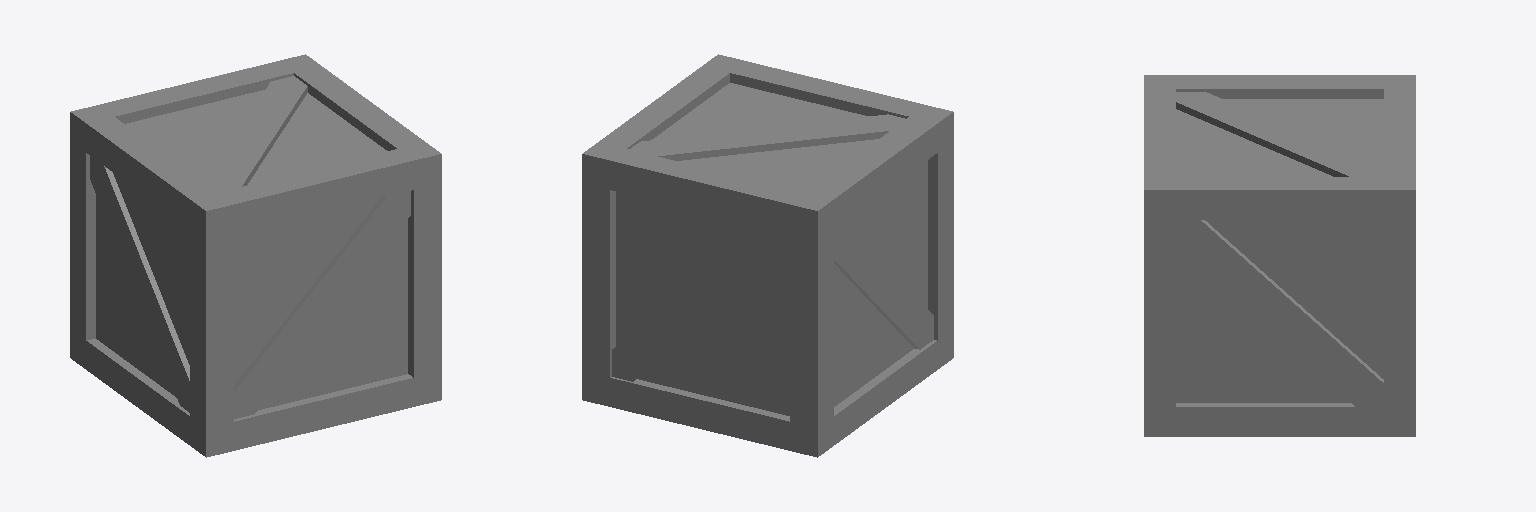
The model's file is woodcrate.obj.
The picture shows the model from 3 angles: view 1: azimuth 30°, elevation 25°; view 2: azimuth 150°, elevation 25°; view 3: azimuth 270°, elevation 25°; orthographic projection.
Parts seen in each view (by area): view 1: default001; view 2: default001; view 3: default001.
Boxes of the visible parts, box(x1,y1,x2,y2) form: default001: box(70, 54, 441, 457); default001: box(582, 54, 953, 457); default001: box(1144, 75, 1415, 436).
Size of the model in its own units: 2.01 by 2.01 by 2.01.